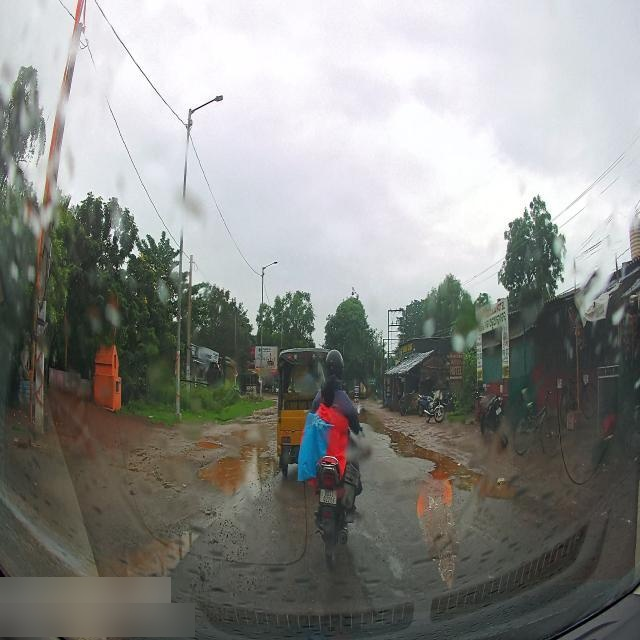pothole: (98, 520, 214, 586), (197, 458, 279, 501), (446, 468, 509, 501), (226, 425, 282, 445), (420, 444, 462, 468), (376, 430, 414, 450), (194, 432, 228, 454), (239, 444, 272, 461), (359, 408, 394, 424), (254, 408, 276, 421)
